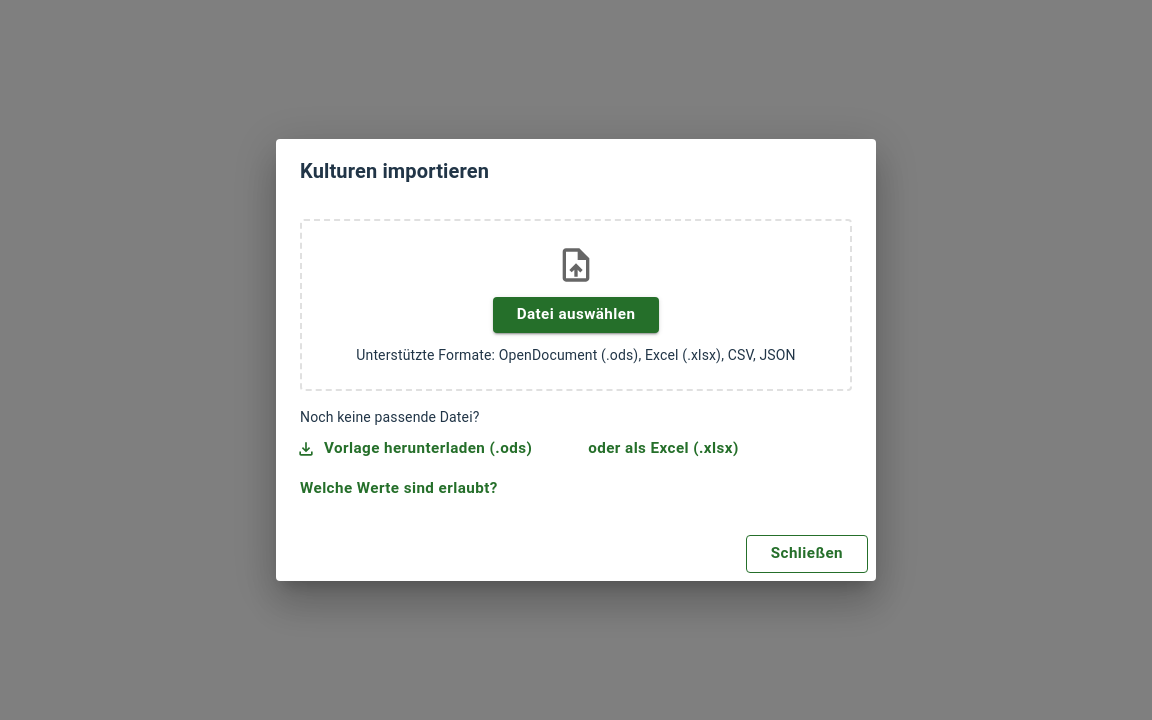
CropsImportStartDialog › format help › keeps the allowed values collapsed until asked, then lists them
Click the button "Welche Werte sind erlaubt?" at (399, 489), box [276, 471, 522, 507]
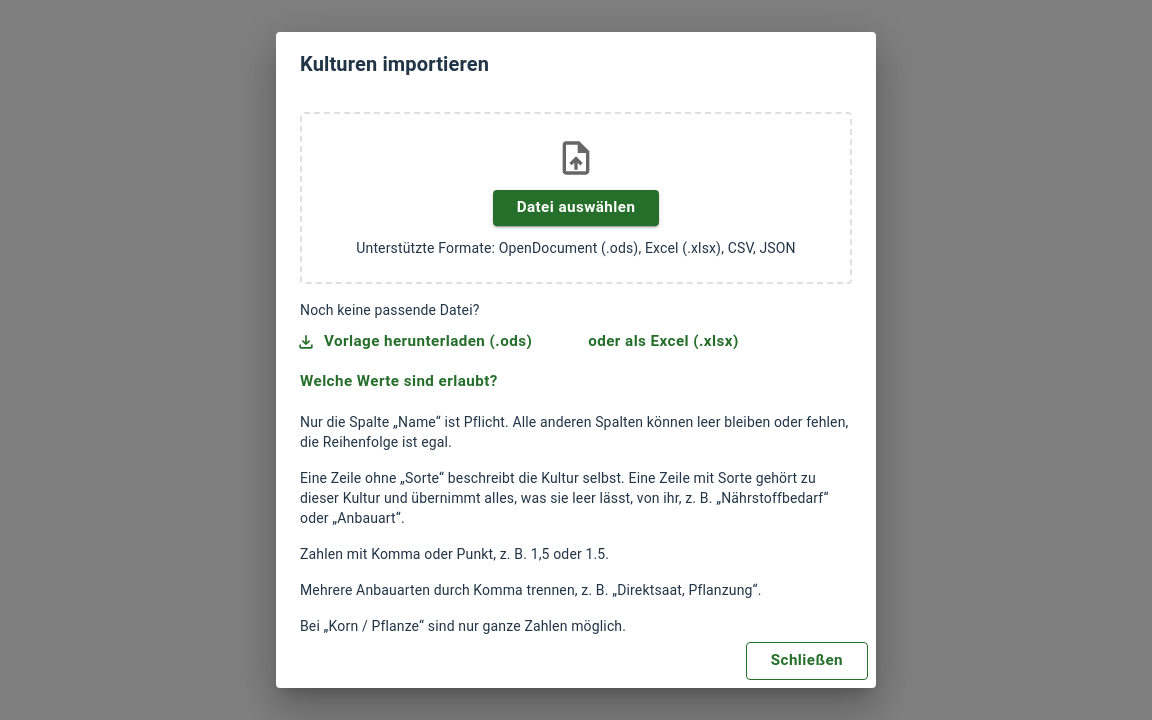
expect the button "Welche Werte sind erlaubt?" is expanded: met, box [276, 364, 522, 400]
expect the text "Bei „Korn / Pflanze“ sind nur ganze Zahlen möglich." is shown: met, box [300, 618, 626, 634]
